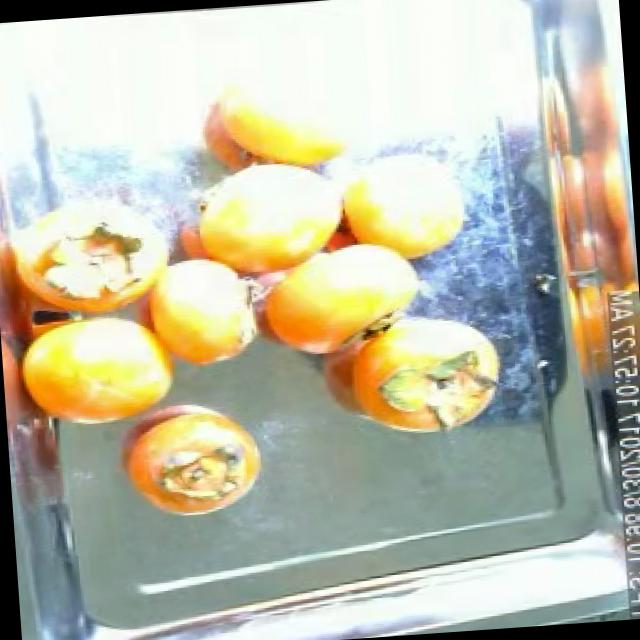Fruit: (1, 299, 194, 446), (102, 388, 277, 531)
